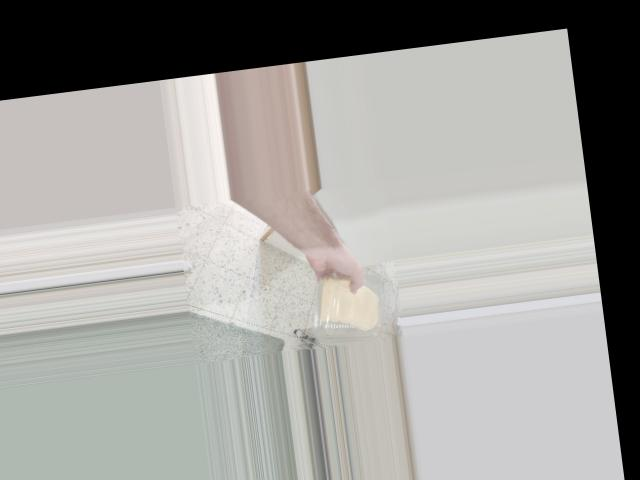cheese: (308, 269, 385, 342)
